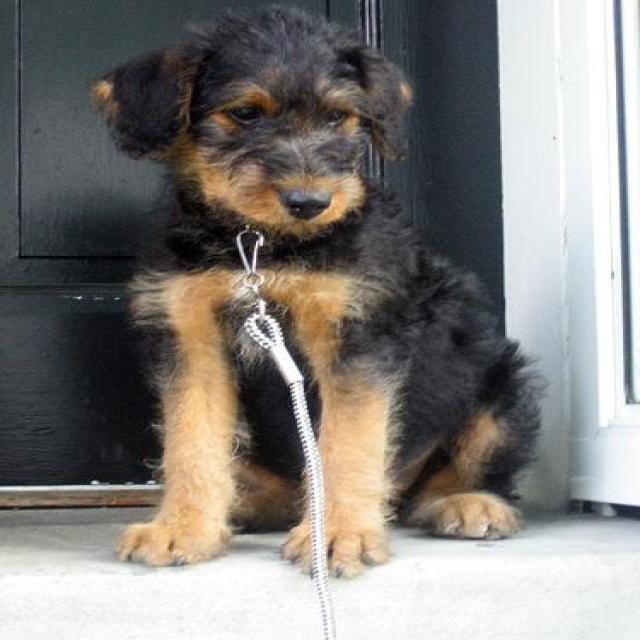airedale: (94, 4, 543, 584)
